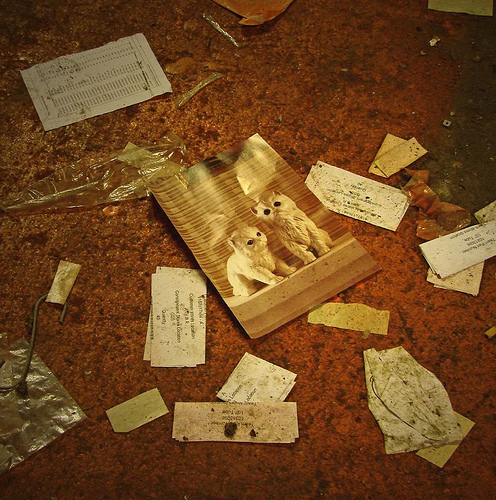litter: (148, 130, 380, 339), (360, 346, 478, 471), (18, 34, 170, 130), (7, 133, 186, 206), (418, 195, 496, 295), (171, 399, 302, 452), (216, 352, 297, 400), (105, 387, 168, 434), (141, 338, 206, 372), (377, 131, 428, 174), (47, 260, 83, 303), (381, 180, 409, 231)
